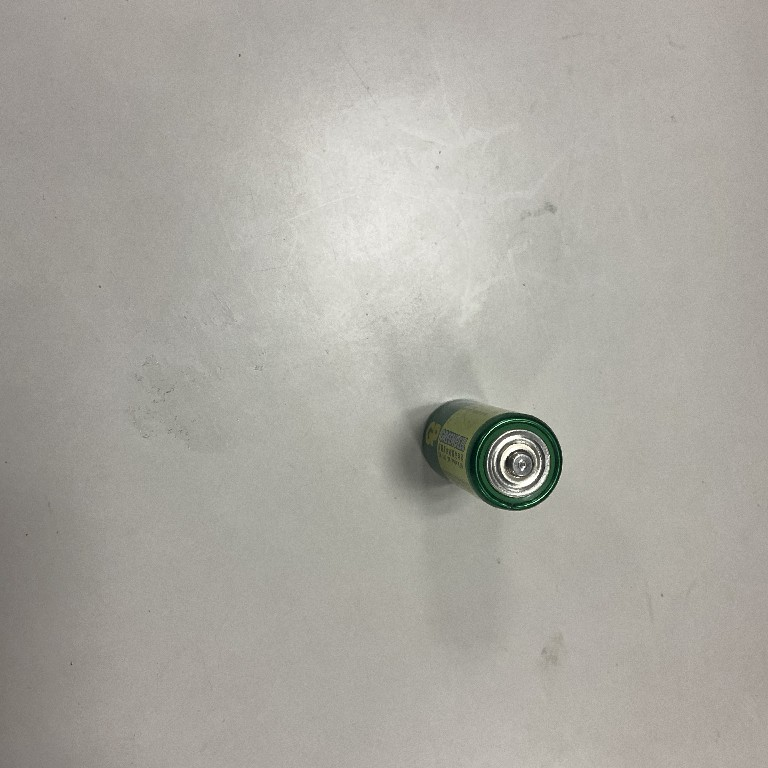charge: (416, 394, 567, 512)
